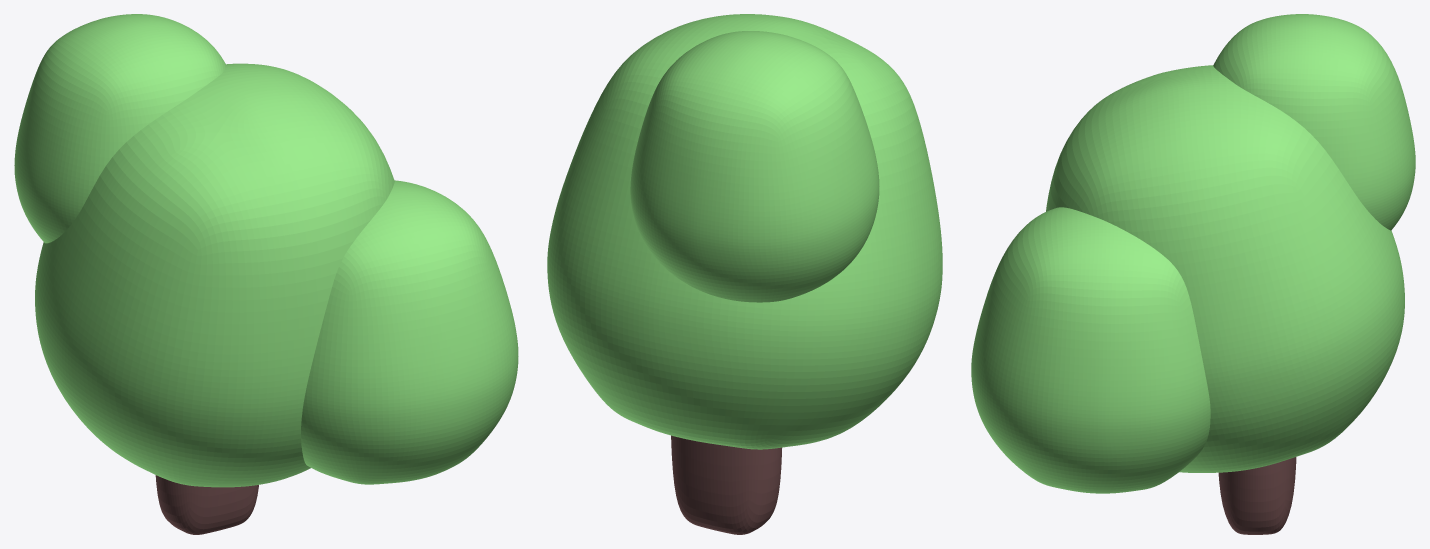
The model's file is triplegreentree.fbx.
3 views of the same model, side by side, from view 1: azimuth 30°, elevation 25°; view 2: azimuth 150°, elevation 25°; view 3: azimuth 270°, elevation 25° (orthographic). The views are drawn at different scales.
Visible parts, largest first — view 1: Roundcube.002, Roundcube.005, Roundcube.004, Roundcube.003; view 2: Roundcube.002, Roundcube.004, Roundcube.003; view 3: Roundcube.002, Roundcube.005, Roundcube.004, Roundcube.003.
Boxes of the visible parts, x1,y1,x2,y2 form: Roundcube.002: (35, 63, 394, 487); Roundcube.005: (301, 180, 518, 484); Roundcube.004: (14, 14, 226, 243); Roundcube.003: (155, 475, 258, 534); Roundcube.002: (547, 14, 942, 449); Roundcube.004: (630, 31, 879, 302); Roundcube.003: (671, 435, 781, 534); Roundcube.002: (1046, 65, 1404, 472); Roundcube.005: (971, 207, 1210, 493); Roundcube.004: (1213, 14, 1415, 230); Roundcube.003: (1218, 457, 1296, 534).
Bounding box in the file's own units: 171 × 216 × 184.
